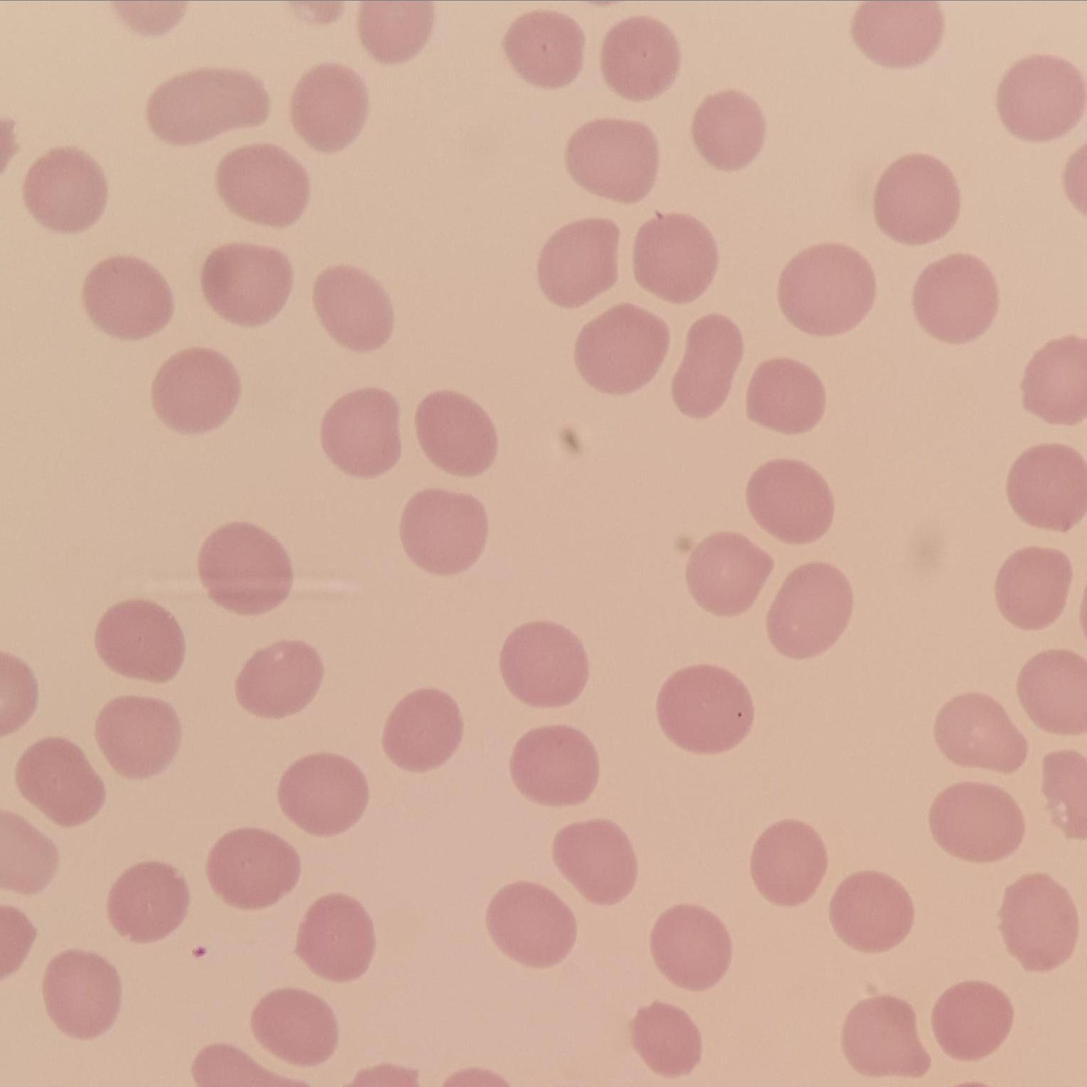Uninfected: (146, 66, 269, 146), (777, 242, 879, 334), (654, 664, 754, 757), (195, 520, 294, 613), (320, 387, 408, 489), (764, 562, 854, 659), (573, 303, 666, 394), (994, 53, 1086, 141), (205, 827, 301, 911), (931, 690, 1025, 775), (398, 486, 489, 573), (15, 737, 102, 828), (564, 117, 657, 202), (218, 143, 315, 224), (251, 981, 340, 1069), (745, 457, 835, 544), (632, 210, 718, 301), (484, 881, 575, 967), (202, 240, 294, 325), (927, 781, 1023, 862), (536, 217, 622, 307), (94, 598, 185, 683), (1004, 442, 1087, 535), (997, 874, 1077, 970), (872, 154, 960, 241), (151, 346, 240, 432), (499, 620, 589, 705), (912, 254, 998, 342), (82, 255, 173, 338), (552, 818, 637, 906), (277, 752, 367, 835), (294, 896, 380, 982), (21, 148, 109, 232), (95, 694, 183, 777), (509, 725, 599, 806), (414, 389, 498, 475), (311, 264, 394, 351), (747, 818, 829, 906), (671, 315, 742, 416), (649, 904, 733, 989), (684, 531, 769, 615), (828, 870, 914, 953), (841, 995, 929, 1076), (289, 61, 370, 148), (382, 689, 465, 773), (235, 641, 323, 720), (107, 860, 190, 943), (42, 951, 121, 1038), (931, 981, 1013, 1064), (600, 16, 681, 98), (502, 11, 587, 88), (994, 546, 1072, 629), (745, 355, 825, 434), (690, 88, 768, 169), (1015, 649, 1086, 735), (852, 3, 943, 67), (1022, 335, 1087, 421), (629, 1002, 701, 1077), (1, 807, 58, 894), (358, 4, 436, 63)
